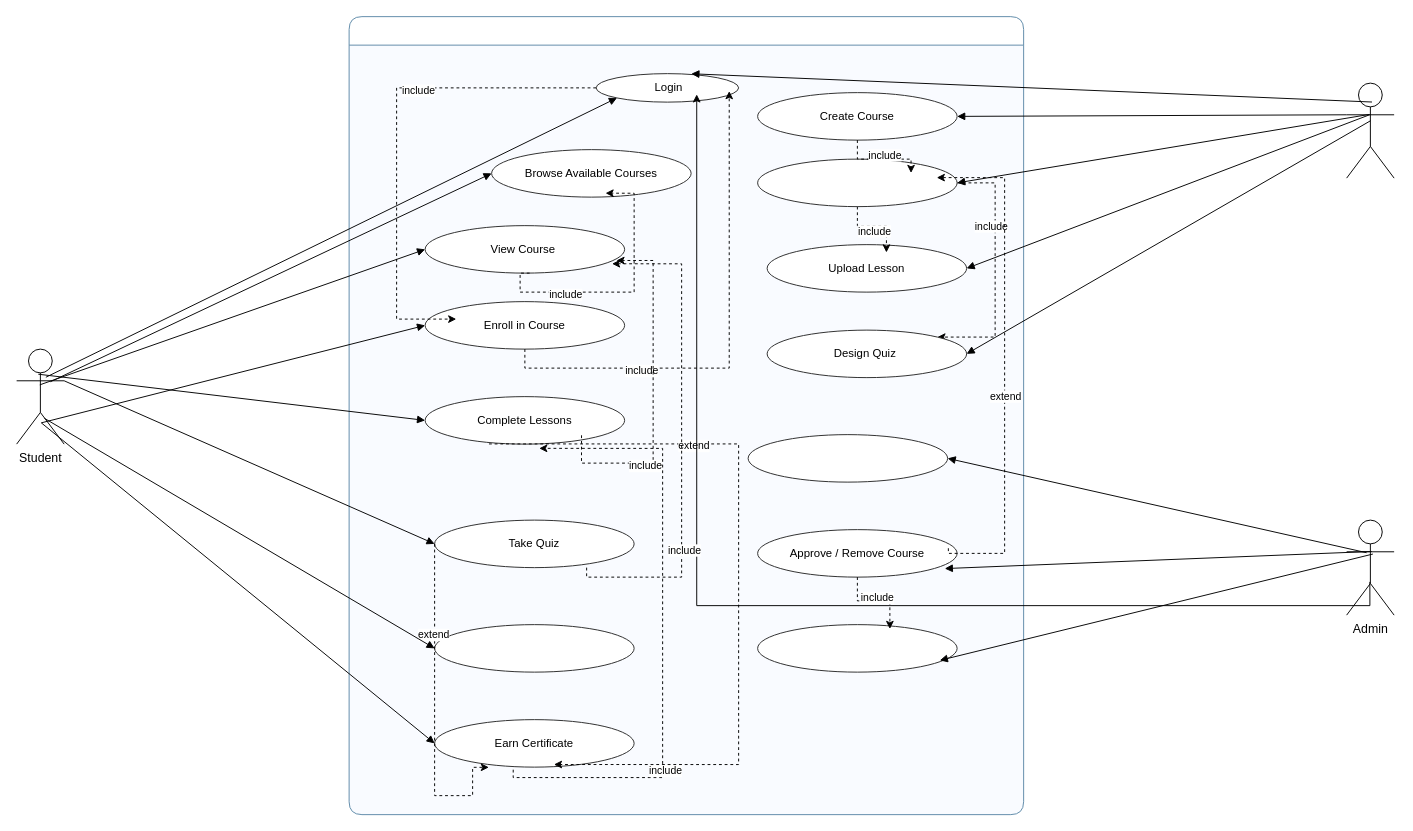
The diagram is 1413 pixels wide and 831 high, and some of its shapes have lost their labels. The shapes that lost their labels are listed below. From the top down, each one's box as (x1, y1, x2, y2) in pixels, then its label:
(1346, 82, 1394, 178): Instructor
(757, 158, 957, 207): Manage Course
(348, 16, 1024, 815): SkillForge System
(747, 434, 948, 482): Manage Users
(434, 624, 634, 672): View Grades / Progress
(757, 624, 957, 672): Monitor Analytics
